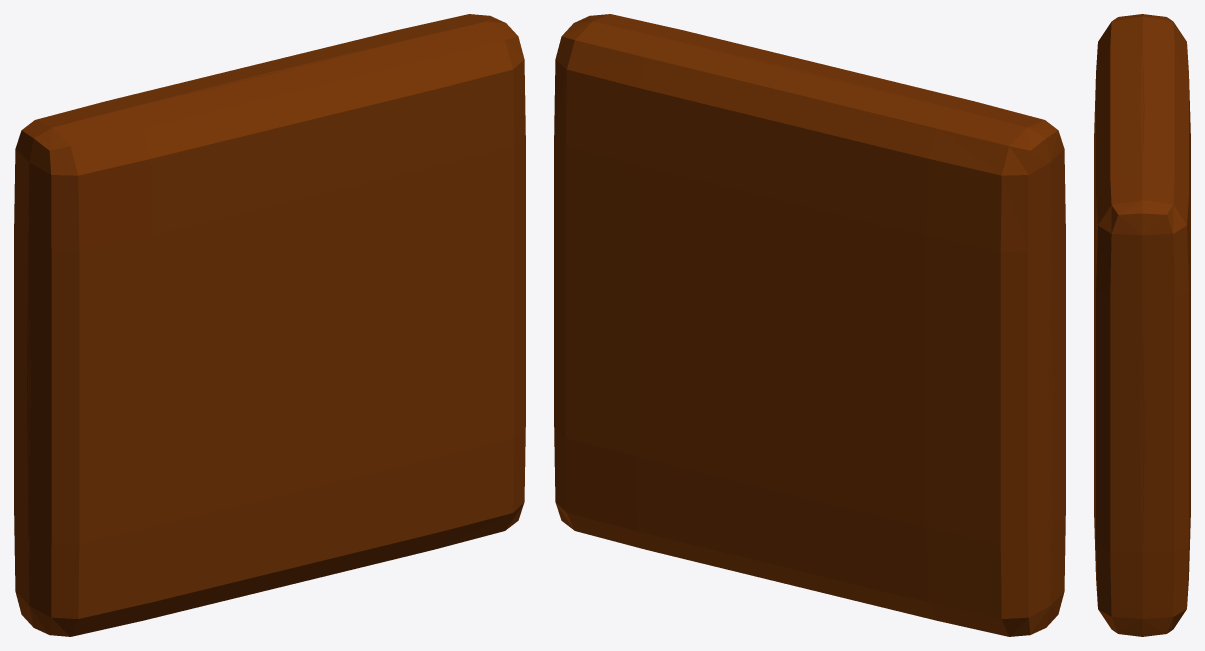
File: BreakingPlatform.fbx
3 views of the same model, side by side, from view 1: azimuth 30°, elevation 25°; view 2: azimuth 150°, elevation 25°; view 3: azimuth 270°, elevation 25° (orthographic). The views are drawn at different scales.
Parts seen in each view (by area): view 1: Platform, PlatformCrack1; view 2: Platform, PlatformCrack1; view 3: Platform, PlatformCrack1.
Boxes of the visible parts, x1,y1,x2,y2 form: Platform: (14, 14, 525, 636); PlatformCrack1: (25, 14, 486, 588); Platform: (554, 14, 1065, 636); PlatformCrack1: (556, 21, 1052, 624); Platform: (1094, 14, 1190, 636); PlatformCrack1: (1140, 14, 1184, 636).
Size of the model in its own units: 0.4 by 1.99 by 1.98.
